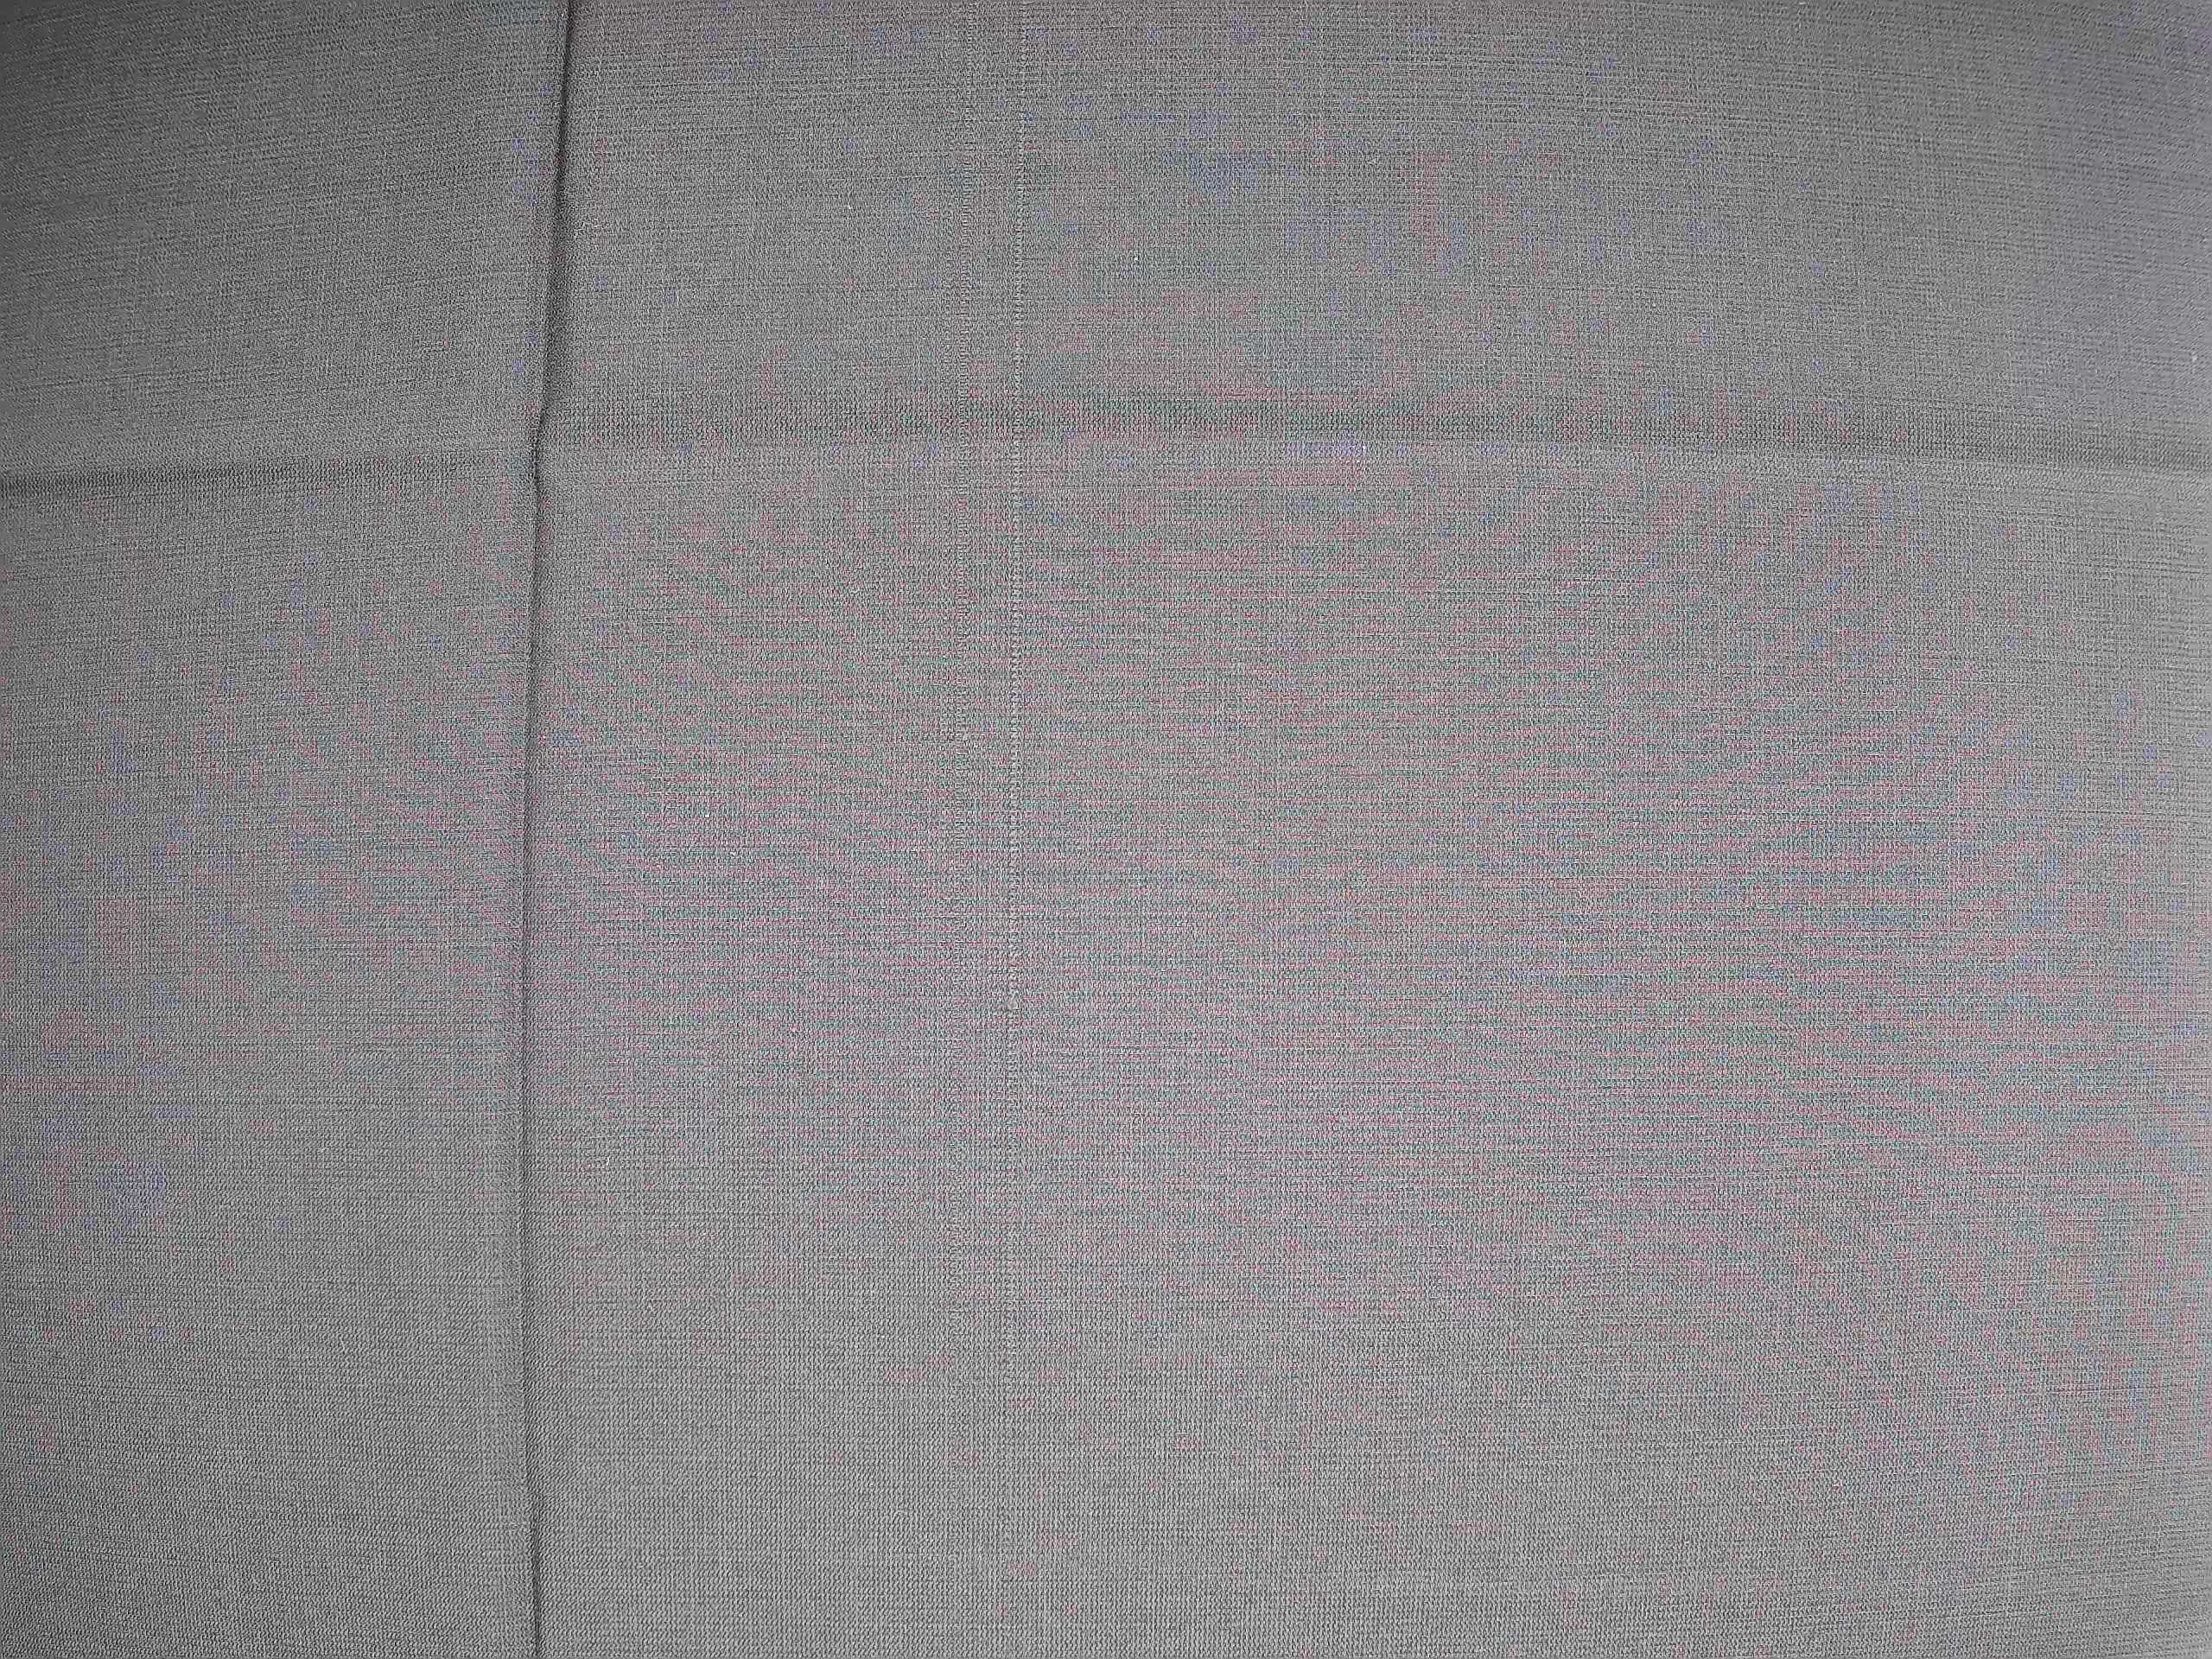hanging-warp: (995, 7, 1042, 1593)
